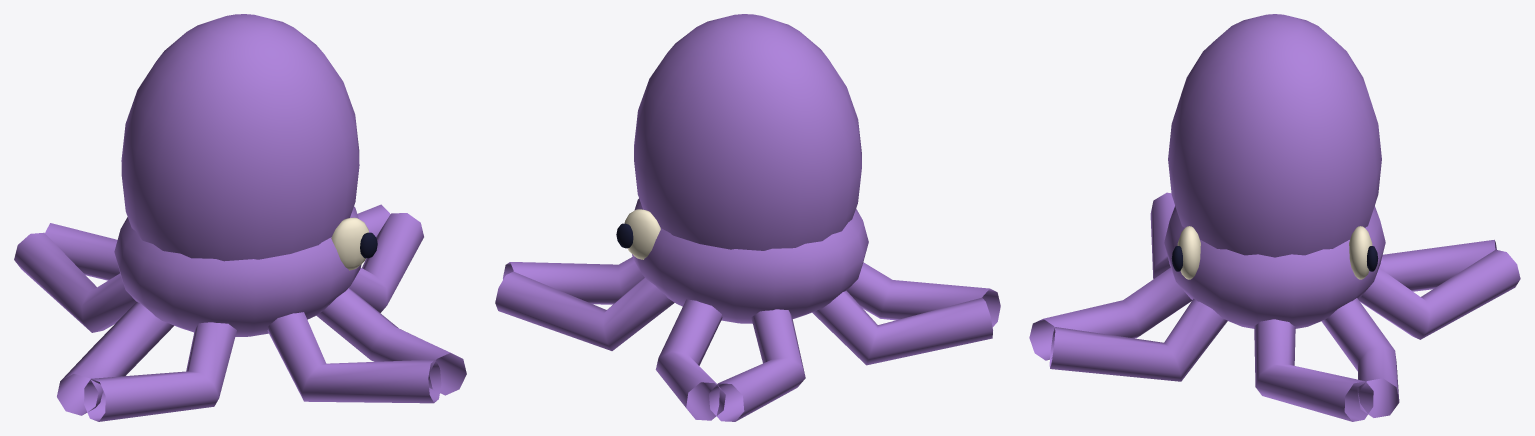
Rendered from r011_reef_octopus_model_octopus.glb.
The picture shows the model from 3 angles, left to right: view 1: azimuth 30°, elevation 25°; view 2: azimuth 150°, elevation 25°; view 3: azimuth 270°, elevation 25°; orthographic projection. The views are drawn at different scales.
Parts seen in each view (by area): view 1: r011_reef_octopus_model_octopus.001; view 2: r011_reef_octopus_model_octopus.001; view 3: r011_reef_octopus_model_octopus.001.
Boxes of the visible parts, x1,y1,x2,y2 form: r011_reef_octopus_model_octopus.001: (14, 14, 466, 421); r011_reef_octopus_model_octopus.001: (495, 14, 1000, 421); r011_reef_octopus_model_octopus.001: (1029, 14, 1520, 421).
Size of the model in its own units: 3.9 by 2.76 by 3.9.
